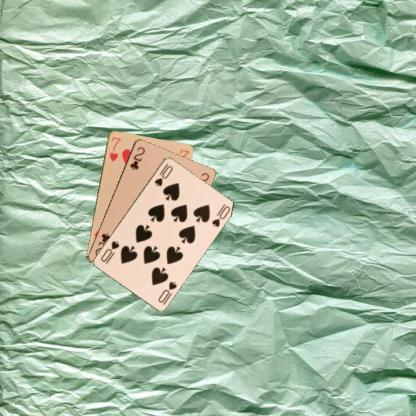10s: (155, 278, 178, 304), (152, 161, 174, 187)
2c: (127, 144, 146, 171)
7h: (107, 135, 122, 162)
